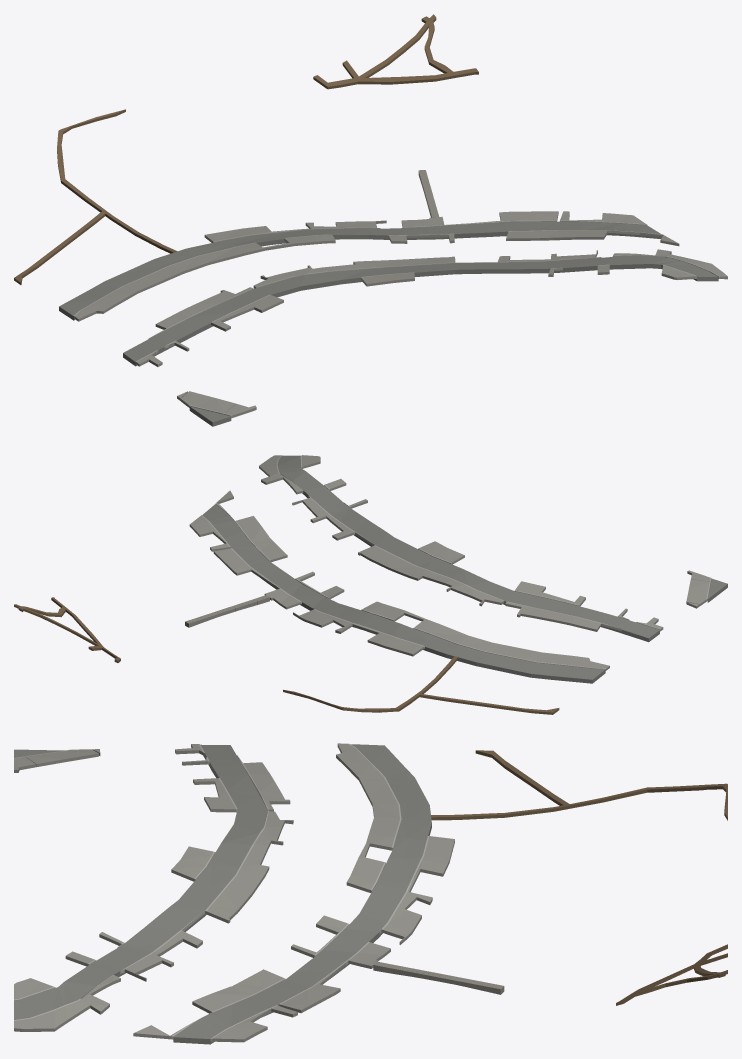
The picture shows the model from 3 angles, top to bottom: view 1: azimuth 30°, elevation 25°; view 2: azimuth 150°, elevation 25°; view 3: azimuth 270°, elevation 25°; orthographic projection. The views are drawn at different scales.
Bounding box in the file's own units: 147 × 19.47 × 146.
